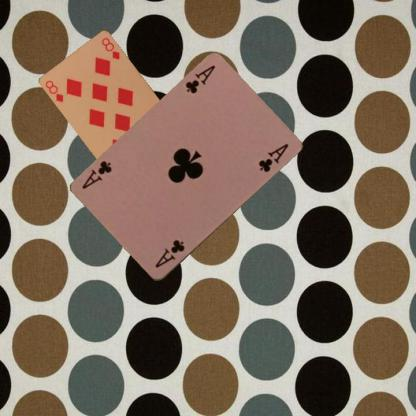8d: (42, 78, 64, 104)
Ac: (152, 237, 186, 270), (182, 63, 216, 95)
